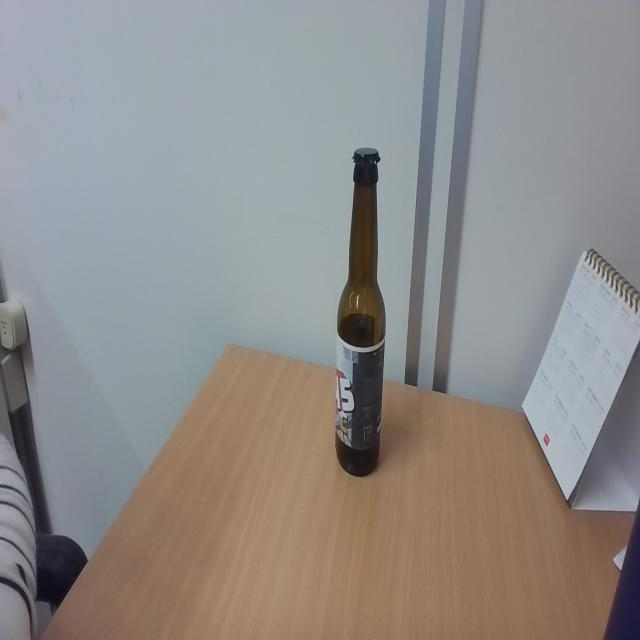Bottle: (338, 145, 384, 478)
Cap: (352, 145, 382, 168)
Label: (336, 339, 382, 446)
